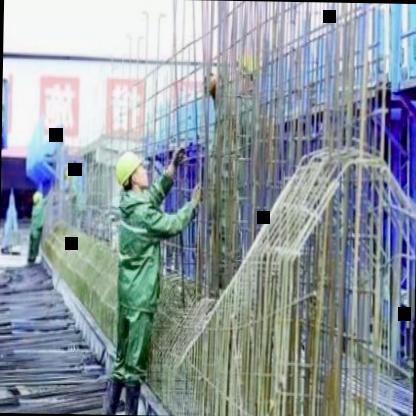helmet: (112, 151, 148, 193)
